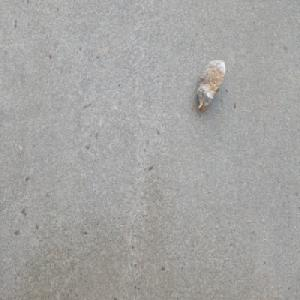Rock: (196, 58, 226, 114)
